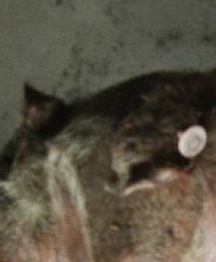text: (169, 113, 216, 170)
